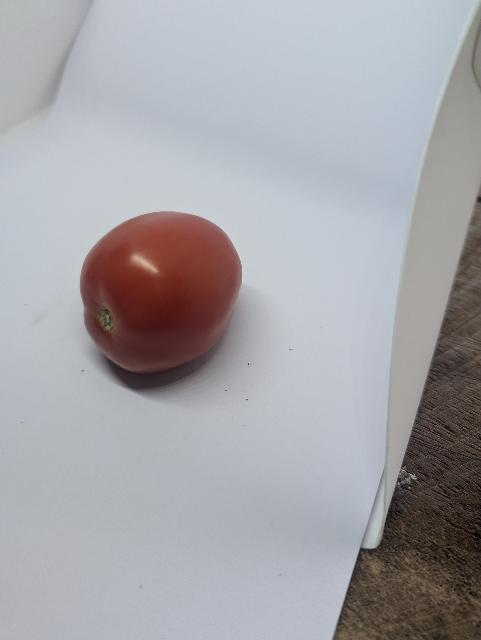red: (71, 205, 251, 401)
